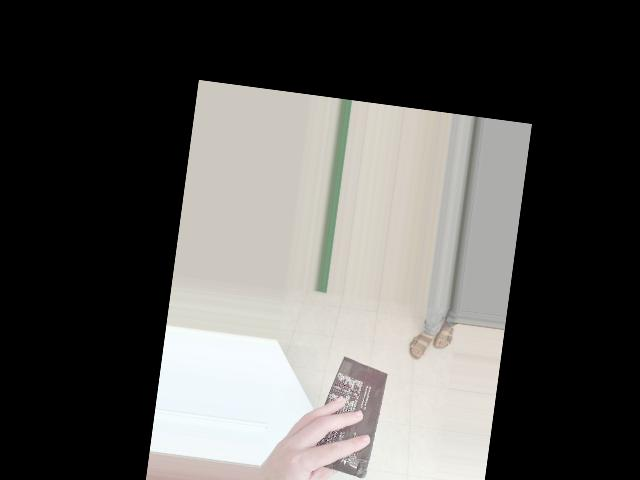chocolate: (323, 352, 460, 445)
